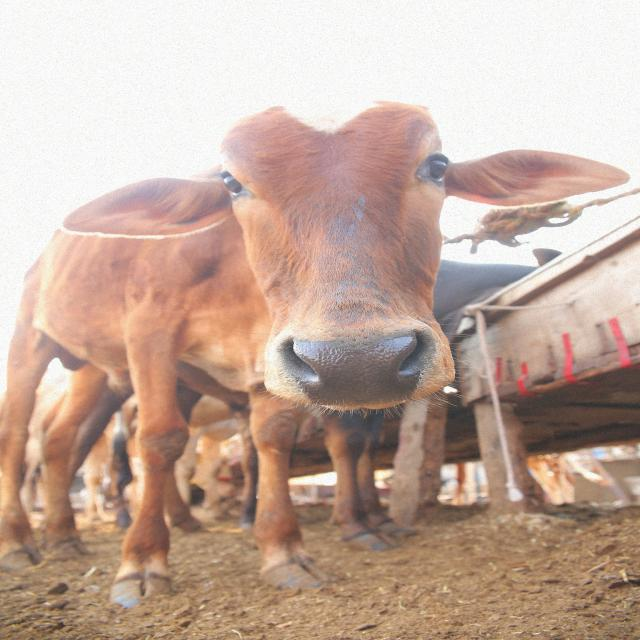muzzles: (262, 325, 444, 408)
